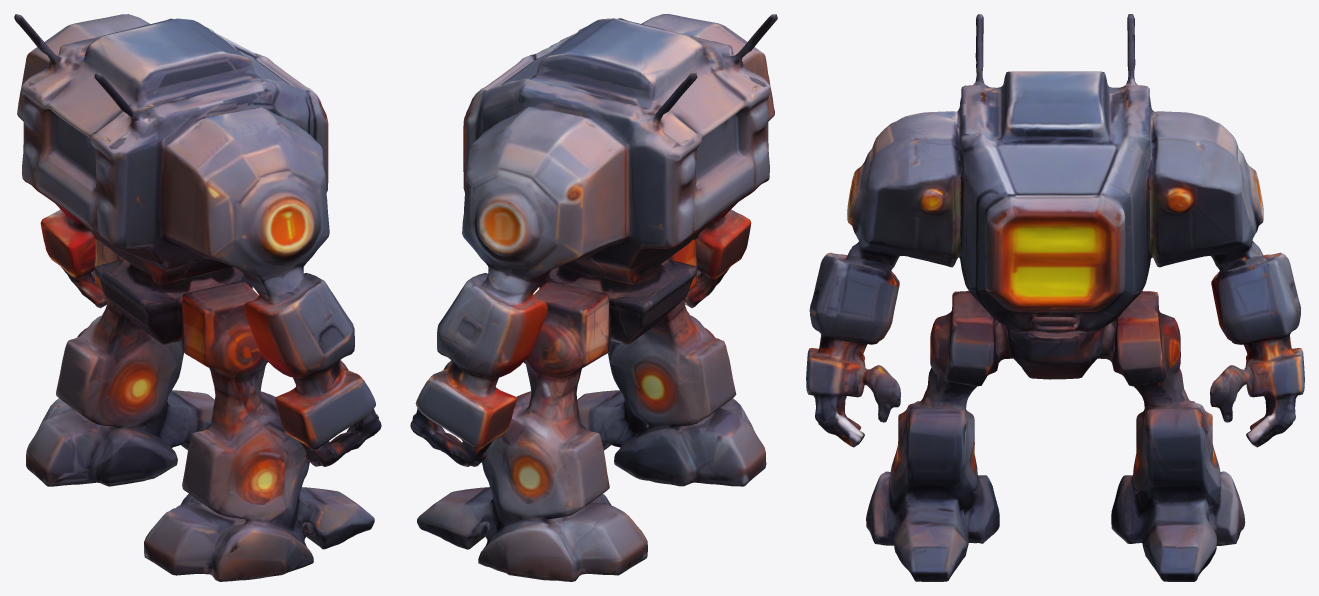
The model's file is Guardian_Bot_1020152031.obj.
The picture shows the model from 3 angles, left to right: view 1: azimuth 30°, elevation 25°; view 2: azimuth 150°, elevation 25°; view 3: azimuth 270°, elevation 25°; orthographic projection. The views are drawn at different scales.
Parts seen in each view (by area): view 1: Mesh_0; view 2: Mesh_0; view 3: Mesh_0.
Boxes of the visible parts, x1,y1,x2,y2 form: Mesh_0: (14, 14, 381, 581); Mesh_0: (410, 14, 777, 581); Mesh_0: (806, 14, 1304, 581).
Bounding box in the file's own units: 1.04 × 1.98 × 1.95.
1 material, 1 textured.
